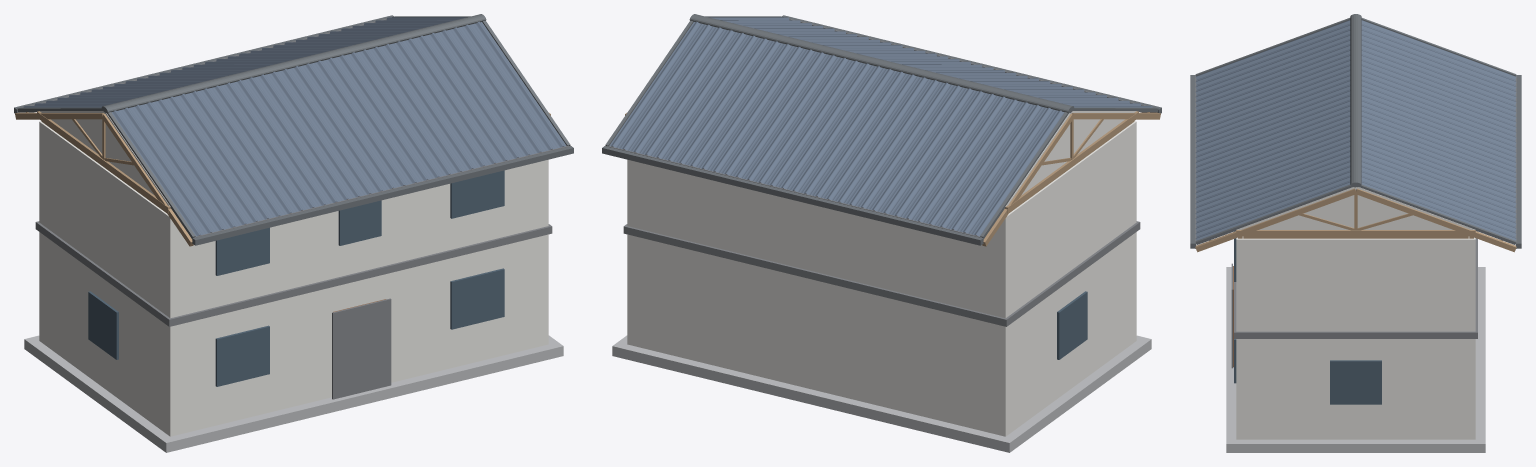
The model's file is Mega_Hi_Rib_Large_Two_Storey_10x6.glb.
3 renders of one model, left to right at view 1: azimuth 30°, elevation 25°; view 2: azimuth 150°, elevation 25°; view 3: azimuth 270°, elevation 25°, orthographic. The views are drawn at different scales.
Parts seen in each view (by area): view 1: GroundFloor_Walls, Foundation, Door_Frame, RoofSheet_09, RoofSheet_02, RoofSheet_05, RoofSheet_08, RoofSheet_04, RoofSheet_06, RoofSheet_10, RoofSheet_03, RoofSheet_07 (+30 smaller); view 2: GroundFloor_Walls, Foundation, RoofSheet_20, RoofSheet_13, RoofSheet_16, RoofSheet_19, RoofSheet_15, RoofSheet_17, RoofSheet_21, RoofSheet_14, RoofSheet_18, RoofSheet_22 (+24 smaller); view 3: GroundFloor_Walls, Foundation, Gable_Wall_Right, RoofSheet_05, RoofSheet_16, RoofSheet_03, RoofSheet_04, RoofSheet_06, RoofSheet_14, RoofSheet_15, RoofSheet_17, RoofSheet_08 (+26 smaller).
Part boxes in pixels (<box>): GroundFloor_Walls: <box>39,121,548,436</box>; Foundation: <box>24,335,563,452</box>; Door_Frame: <box>332,298,391,399</box>; RoofSheet_09: <box>381,38,499,170</box>; RoofSheet_02: <box>143,96,261,228</box>; RoofSheet_05: <box>245,71,363,203</box>; RoofSheet_08: <box>347,46,465,178</box>; RoofSheet_04: <box>211,80,329,211</box>; RoofSheet_06: <box>279,63,397,195</box>; RoofSheet_10: <box>415,30,533,162</box>; RoofSheet_03: <box>177,88,295,220</box>; RoofSheet_07: <box>313,55,431,186</box>; GroundFloor_Walls: <box>627,121,1136,436</box>; Foundation: <box>612,335,1151,452</box>; RoofSheet_20: <box>676,38,794,170</box>; RoofSheet_13: <box>914,96,1032,228</box>; RoofSheet_16: <box>812,71,930,203</box>; RoofSheet_19: <box>710,46,828,178</box>; RoofSheet_15: <box>846,80,964,211</box>; RoofSheet_17: <box>778,63,896,195</box>; RoofSheet_21: <box>642,30,760,162</box>; RoofSheet_14: <box>880,88,998,220</box>; RoofSheet_18: <box>744,55,862,186</box>; RoofSheet_22: <box>609,21,725,153</box>; GroundFloor_Walls: <box>1236,236,1475,439</box>; Foundation: <box>1226,267,1485,452</box>; Gable_Wall_Right: <box>1236,187,1475,229</box>; RoofSheet_05: <box>1195,80,1350,151</box>; RoofSheet_16: <box>1361,80,1516,151</box>; RoofSheet_03: <box>1195,50,1350,121</box>; RoofSheet_04: <box>1195,65,1350,136</box>; RoofSheet_06: <box>1195,96,1350,166</box>; RoofSheet_14: <box>1361,50,1516,121</box>; RoofSheet_15: <box>1361,65,1516,136</box>; RoofSheet_17: <box>1361,96,1516,166</box>; RoofSheet_08: <box>1195,126,1350,197</box>.
Size of the model in its own units: 10.5 by 7.36 by 8.3.
